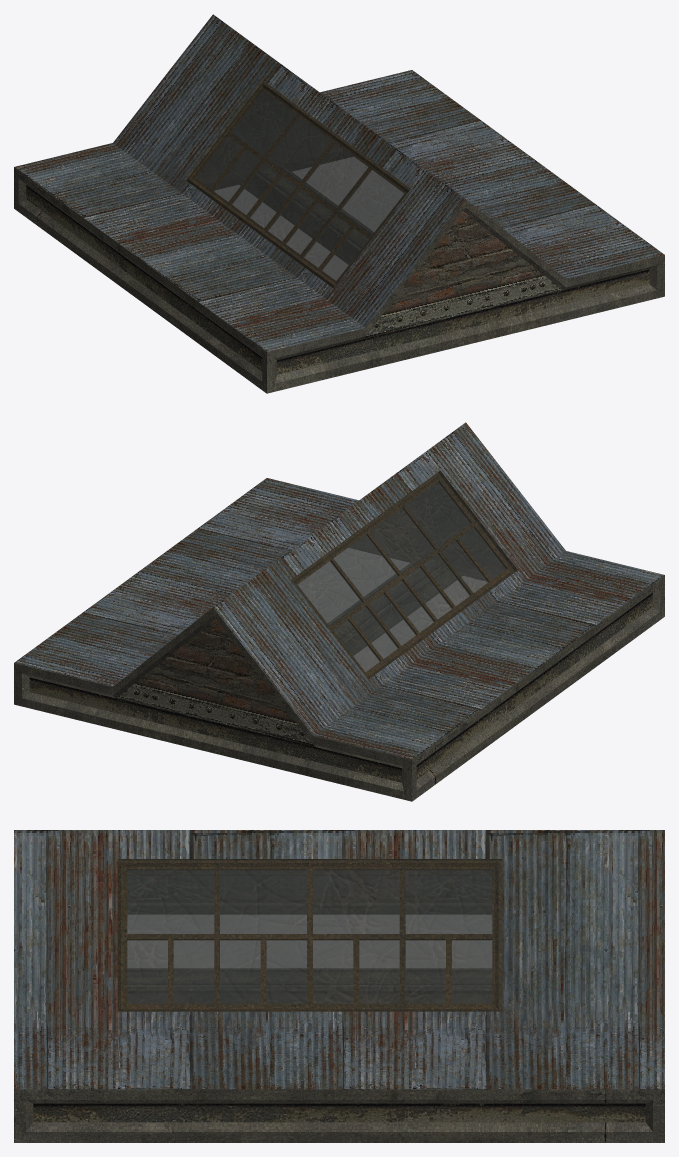
The model's file is roof_bx_1_side.glb.
The picture shows the model from 3 angles, top to bottom: view 1: azimuth 30°, elevation 25°; view 2: azimuth 150°, elevation 25°; view 3: azimuth 270°, elevation 25°; orthographic projection. The views are drawn at different scales.
Parts seen in each view (by area): view 1: roof_bx_1_side; view 2: roof_bx_1_side; view 3: roof_bx_1_side.
Boxes of the visible parts, bbox=[...] form: roof_bx_1_side: bbox=[14, 14, 664, 393]; roof_bx_1_side: bbox=[14, 422, 664, 801]; roof_bx_1_side: bbox=[14, 830, 664, 1142].
Bounding box in the file's own units: 4 × 1.4 × 4.4.
5 materials, 5 textured.
